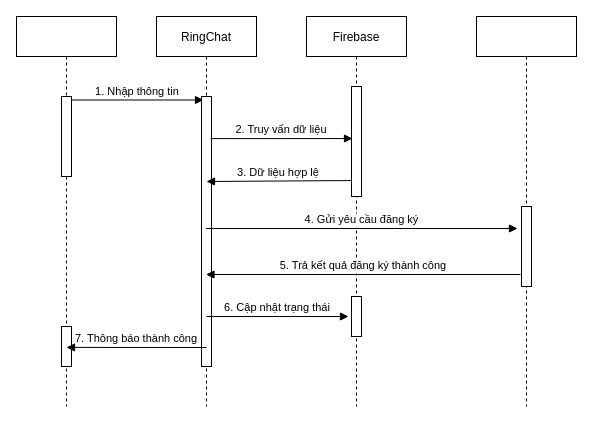
Image size: 593x423. Some labels were removed from this diagram. The shapes that lost their labels are listed below. From the top down, each one's centre as x and y in pixels, then its label:
(x=66, y=211): Người dùng
(x=526, y=211): SIP Server
